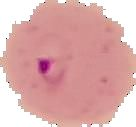parasitized: (24, 32, 84, 93)
